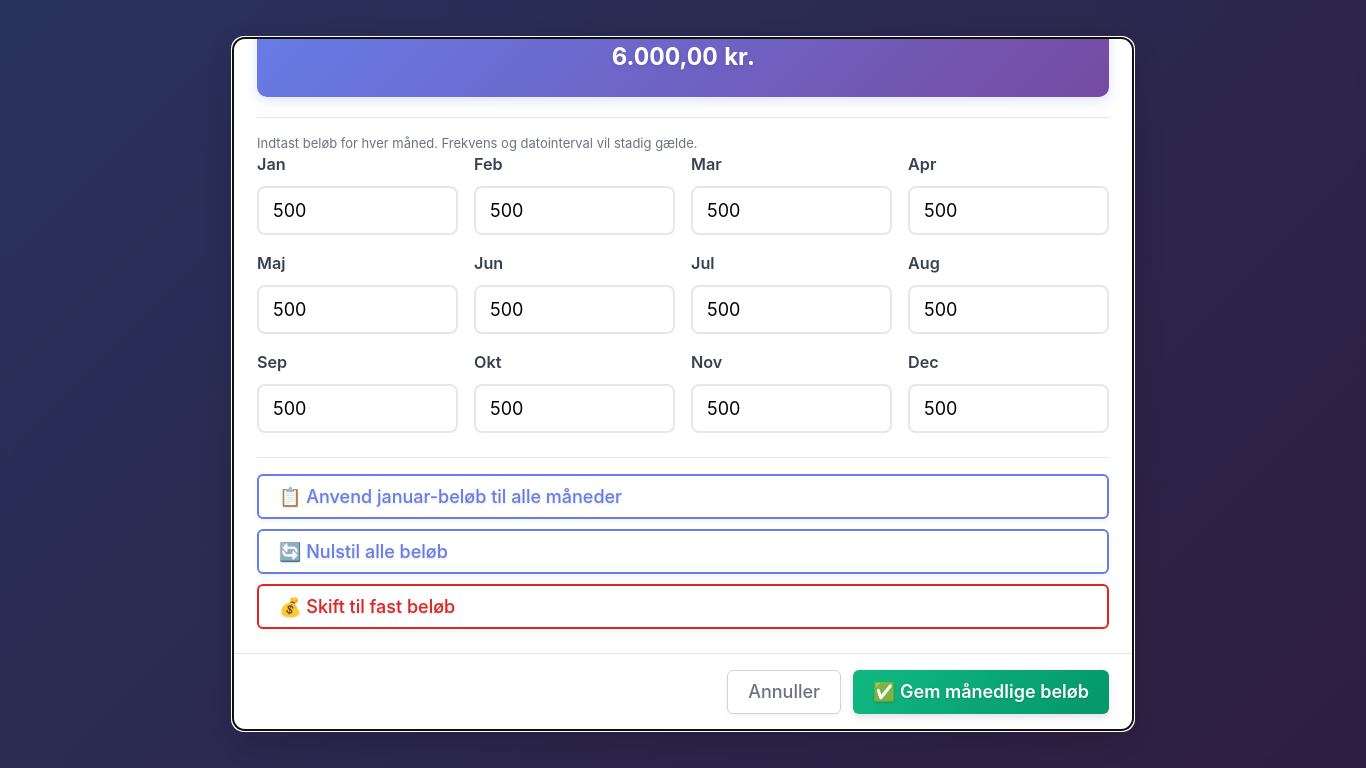
it: MonthlyAmountsModal › opens switch-to-fixed modal
(page scrolled)
Click the button "💰 Skift til fast beløb" at coordinates (367, 606), box x1=257 y1=584 x2=1109 y2=628
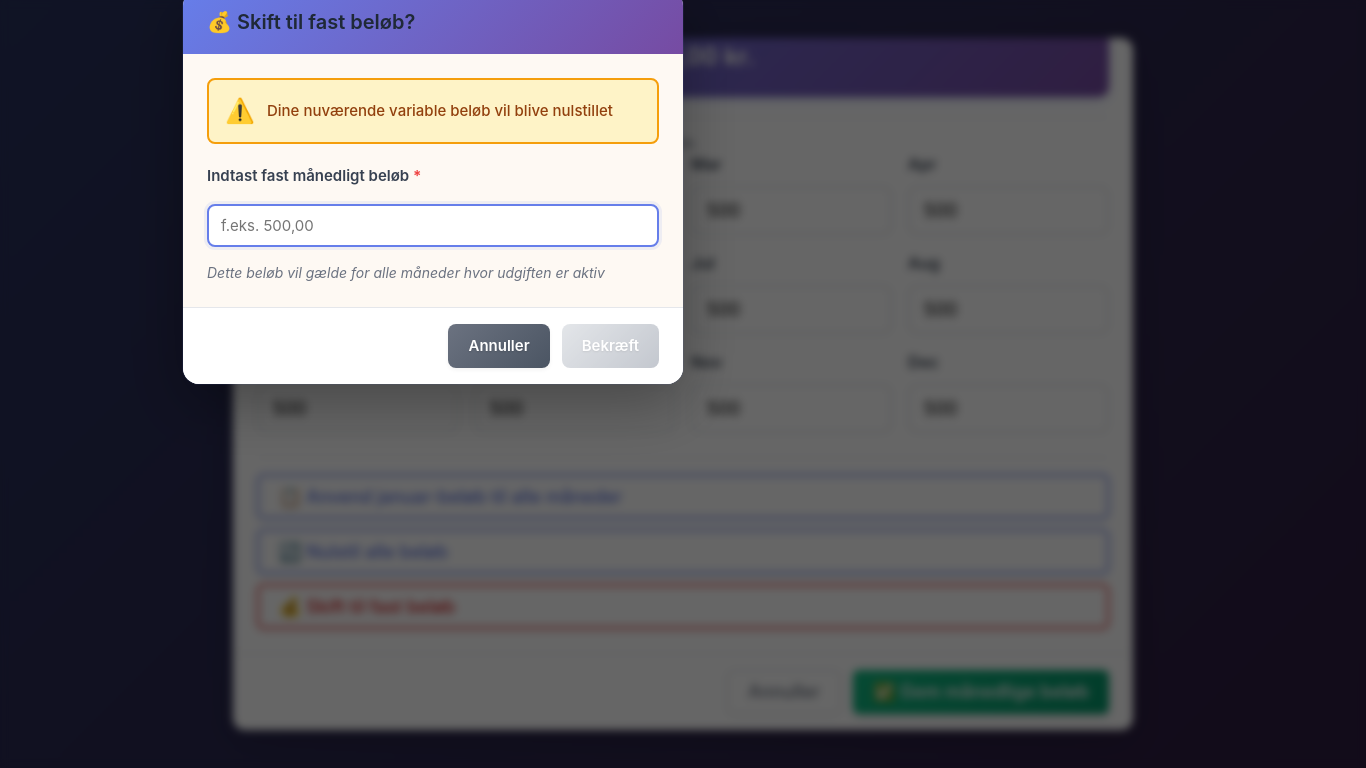
Result: the heading "💰 Skift til fast beløb?" is shown at x1=207 y1=10 x2=415 y2=34
